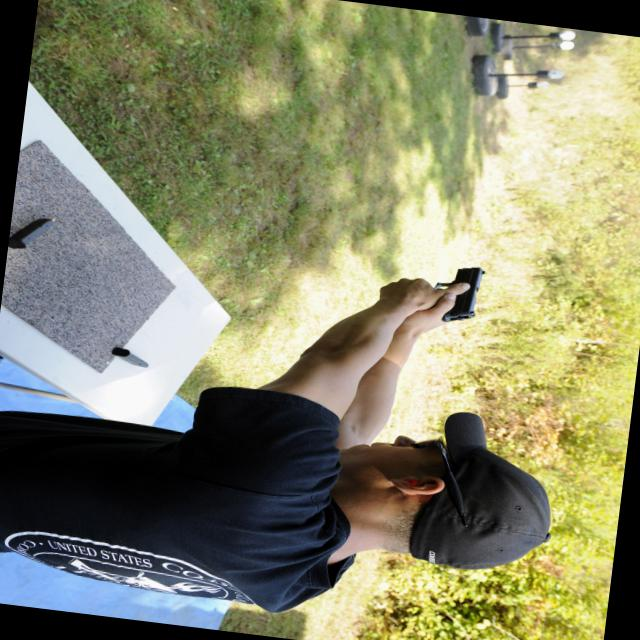handgun: (416, 258, 493, 324)
